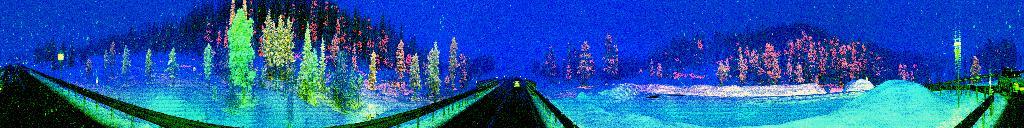pole: (989, 74, 992, 98), (96, 73, 98, 93)
